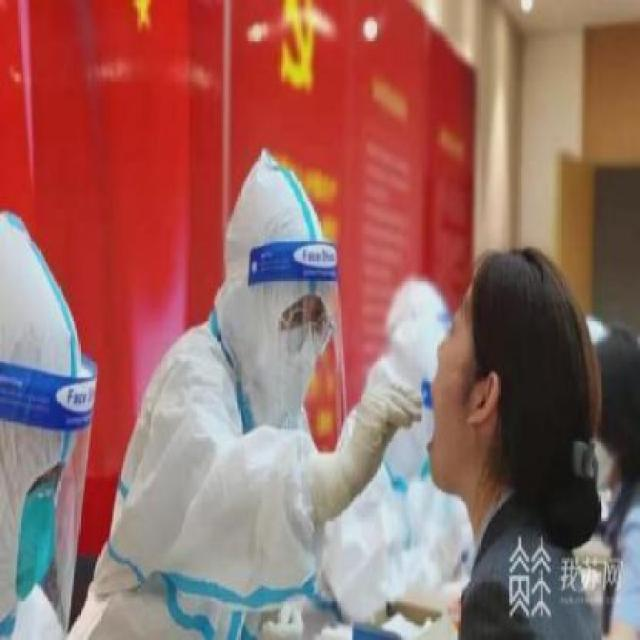face_mask: (3, 446, 66, 602), (260, 290, 331, 418)
face_nomask: (396, 298, 484, 488)
glasses: (272, 302, 342, 358)
hand_glove: (332, 360, 417, 463)
head_nohelmet: (452, 228, 598, 330)
